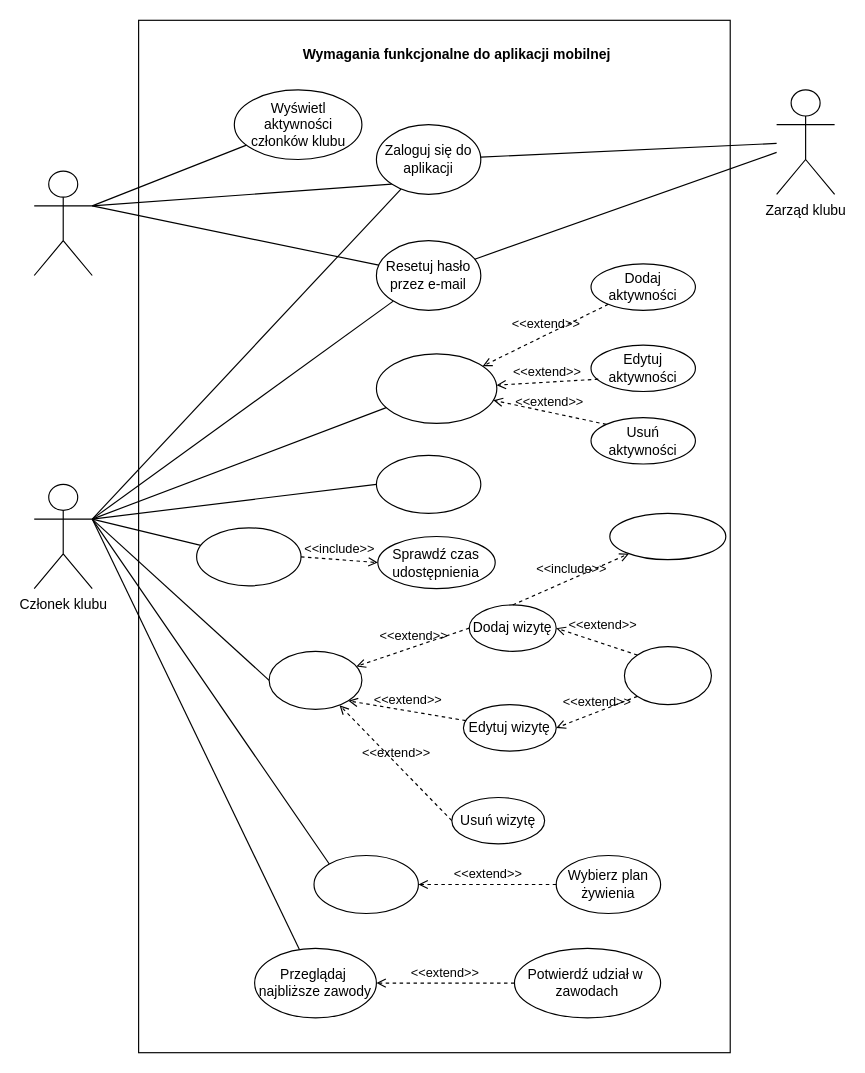
Some shapes in this 865 by 1073 pixel diagram are drawn without their labels. Here are the shapes that lost their labels. From the top down, the centre of each, then its label:
[62,223]: Trener
[436,388]: Wyświetl swoje aktywności
[428,483]: Udostępnij konia
[248,556]: Odbierz udostępnionego konia
[667,536]: Przypomnij o wizycie
[315,679]: Wyświetl wizyty
[667,675]: Zapisz zdjęcie z wizyty
[365,883]: Przeglądaj plany żywienia
